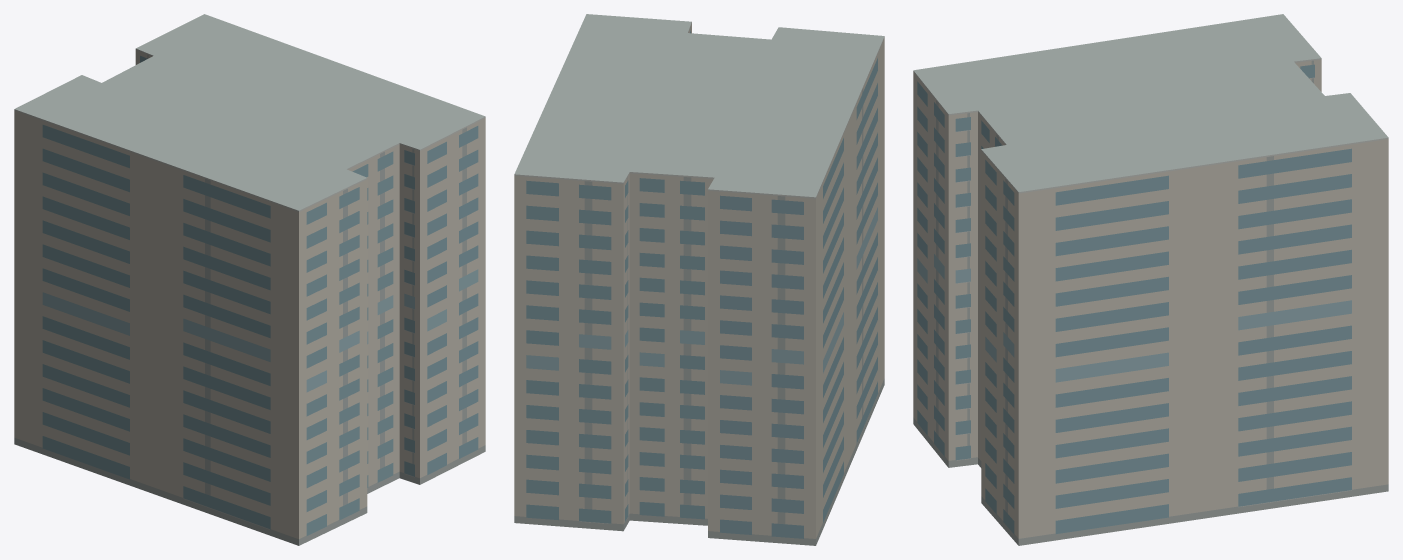
File: survey-upis-32986801.glb
3 views of the same model, side by side, from view 1: azimuth 30°, elevation 25°; view 2: azimuth 150°, elevation 25°; view 3: azimuth 270°, elevation 25° (orthographic). The views are drawn at different scales.
Parts seen in each view (by area): view 1: survey-upis-32986801.tmp; view 2: survey-upis-32986801.tmp; view 3: survey-upis-32986801.tmp.
Boxes of the visible parts, x1,y1,x2,y2 form: survey-upis-32986801.tmp: [14, 14, 485, 545]; survey-upis-32986801.tmp: [514, 14, 884, 545]; survey-upis-32986801.tmp: [913, 14, 1388, 545].
Bounding box in the file's own units: 64.51 × 59.7 × 72.73.
